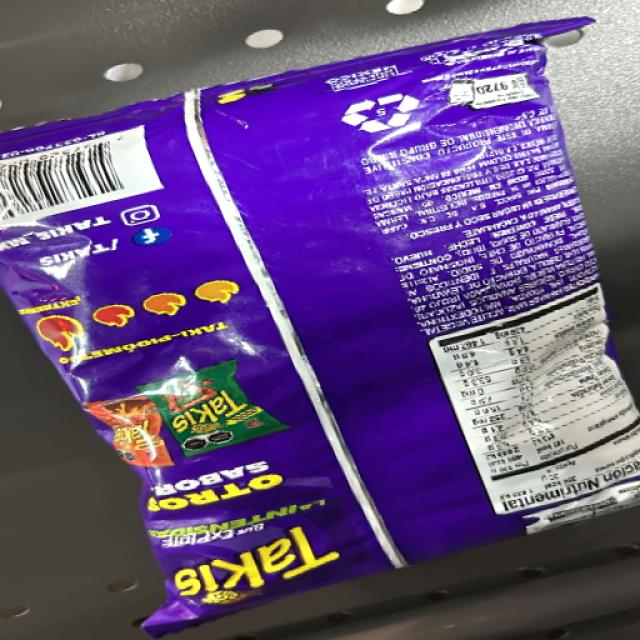productoAtras: (85, 104, 613, 539)
